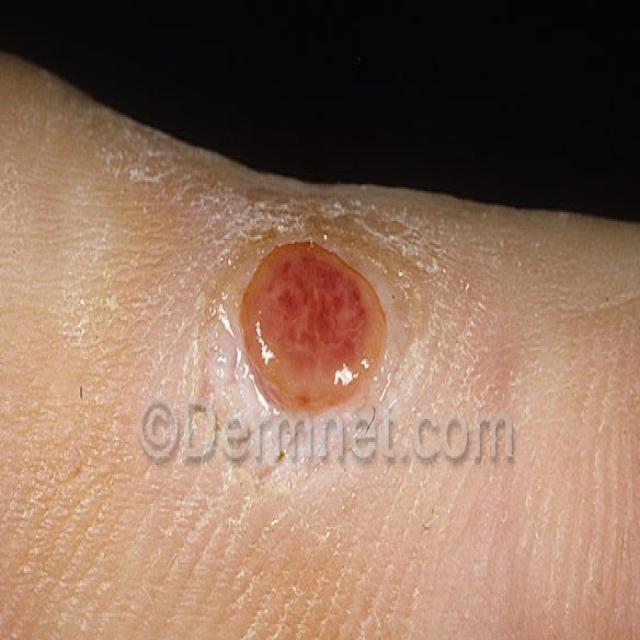Vascular Tumors: (178, 201, 422, 418)
